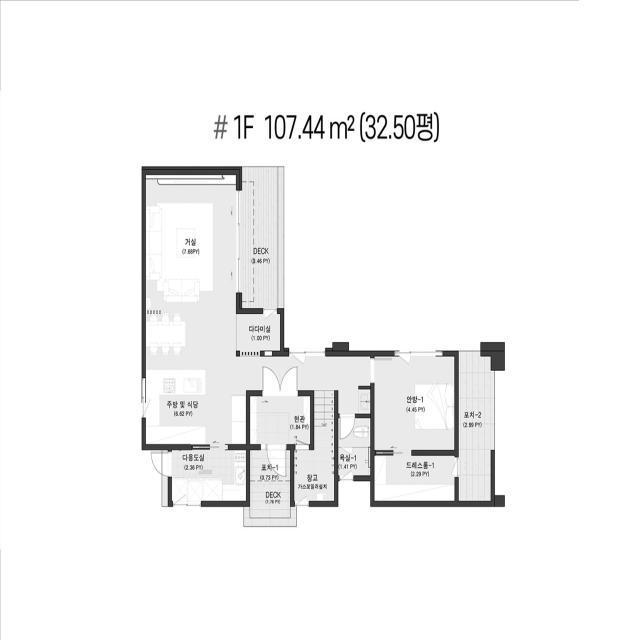space_balconi: (459, 351, 495, 501)
space_bedroom: (374, 357, 454, 451)
space_dressroom: (374, 456, 455, 502), (338, 389, 370, 414)
space_front: (250, 396, 310, 444)
space_kitchen: (146, 369, 231, 444)
space_living_room: (146, 175, 370, 445)
space_multipurpose_space: (171, 449, 246, 501)
space_other: (294, 426, 334, 501), (236, 314, 280, 355)
space_staircase: (314, 389, 334, 427)
space_toilet: (338, 447, 371, 476), (338, 418, 370, 447)
